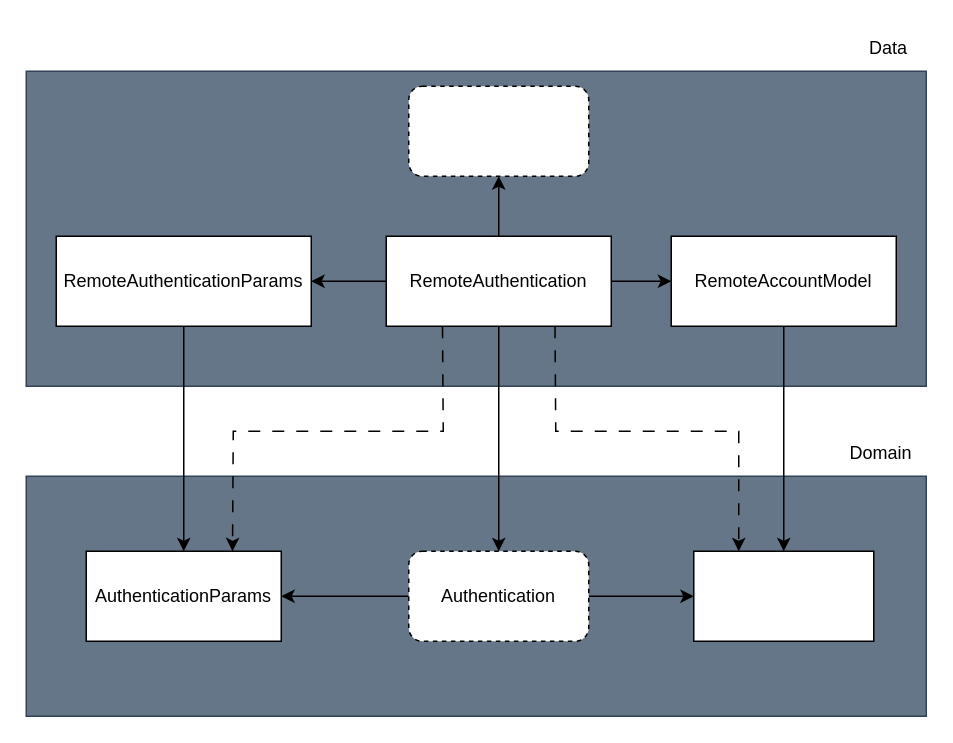
Some shapes in this 953 by 743 pixel diagram are drawn without their labels. The box of each missing label's shape, as (x1, y1, x2, y2) in pixels:
AccountEntity: (692, 550, 874, 641)
HttpClient: (407, 85, 589, 176)
